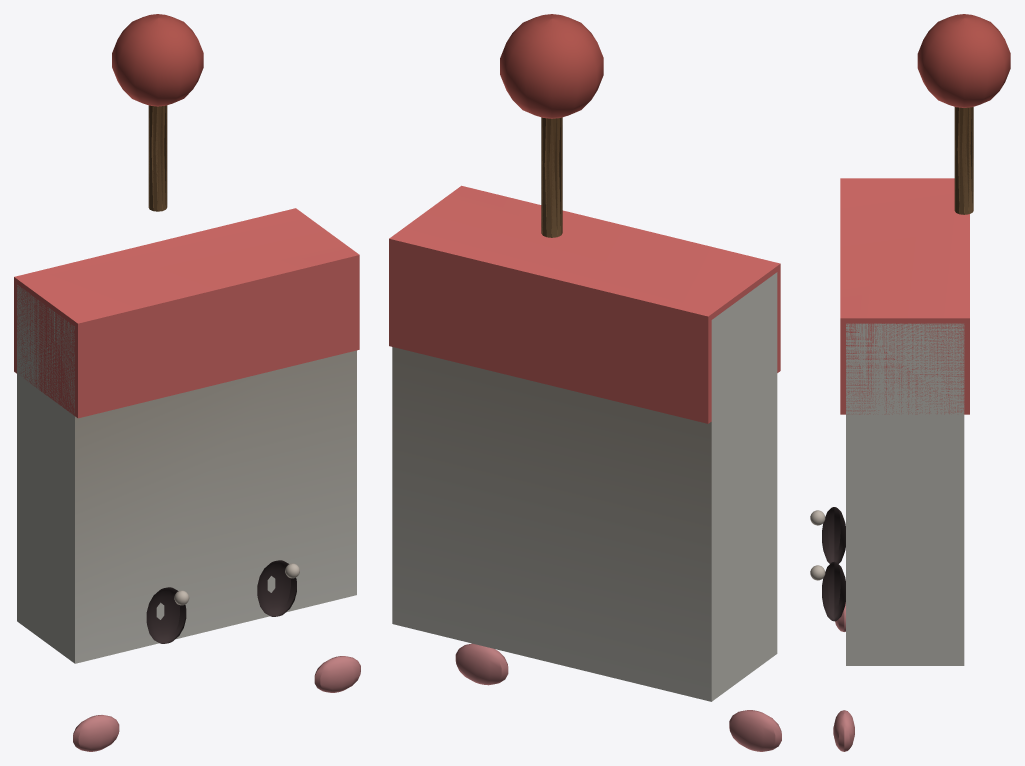
The model's file is pcbf6c7b6.glb.
3 views of the same model, side by side, from view 1: azimuth 30°, elevation 25°; view 2: azimuth 150°, elevation 25°; view 3: azimuth 270°, elevation 25° (orthographic). The views are drawn at different scales.
Parts seen in each view (by area): view 1: pet_pcbf6c7b6; view 2: pet_pcbf6c7b6; view 3: pet_pcbf6c7b6.
Boxes of the visible parts, box(x1,y1,x2,y2) form: pet_pcbf6c7b6: box(14, 14, 360, 751); pet_pcbf6c7b6: box(389, 14, 781, 751); pet_pcbf6c7b6: box(810, 14, 1010, 751).
Bounding box in the file's own units: 0.2861 × 0.6264 × 0.1698.
